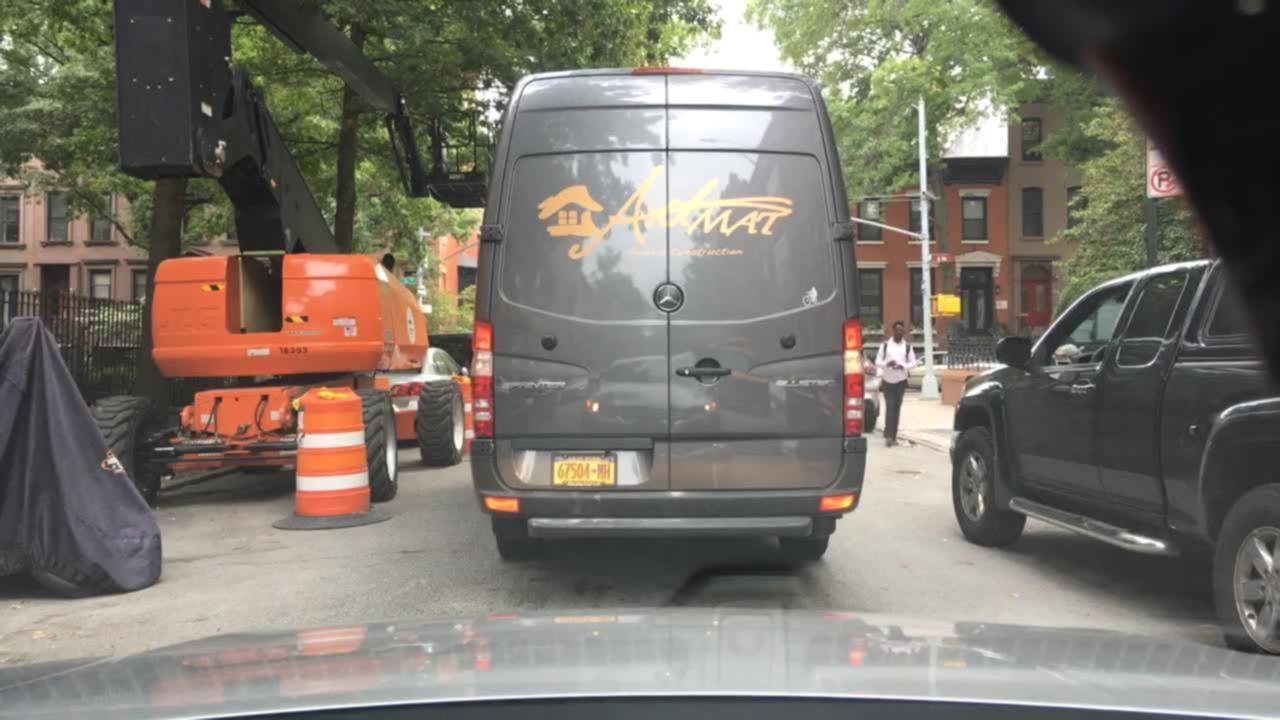Mercedes: (645, 270, 692, 322)
